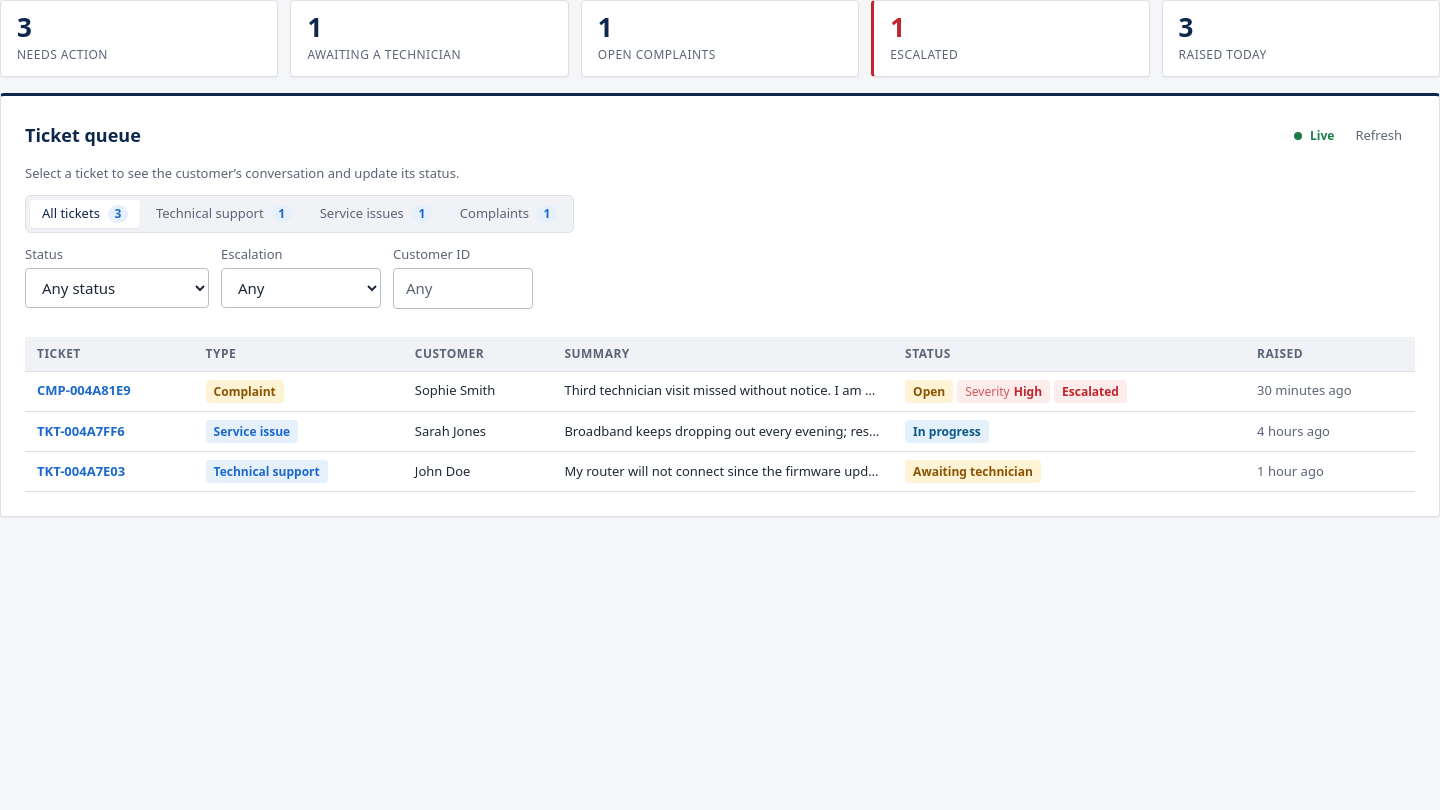
Test: TicketsPanel › applies a status change to the list as well as the detail
Expected: the row named "firmware update" is shown, x1=25 y1=452 x2=1415 y2=492
Click the button "TKT-004A7E03".
click(81, 472)  # box x1=37 y1=462 x2=125 y2=481
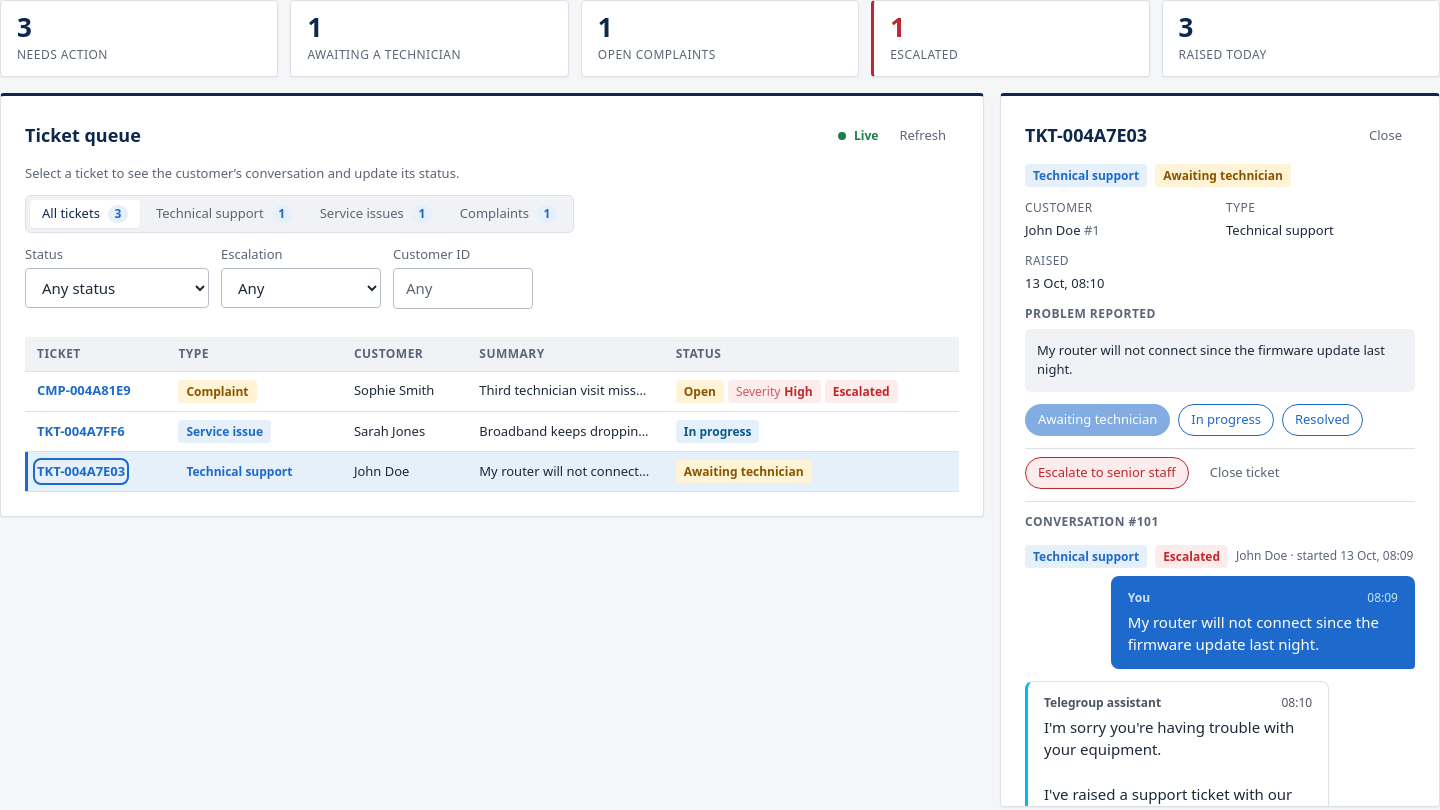
Click the button "Resolved".
click(1322, 420)  # box x1=1282 y1=404 x2=1363 y2=436
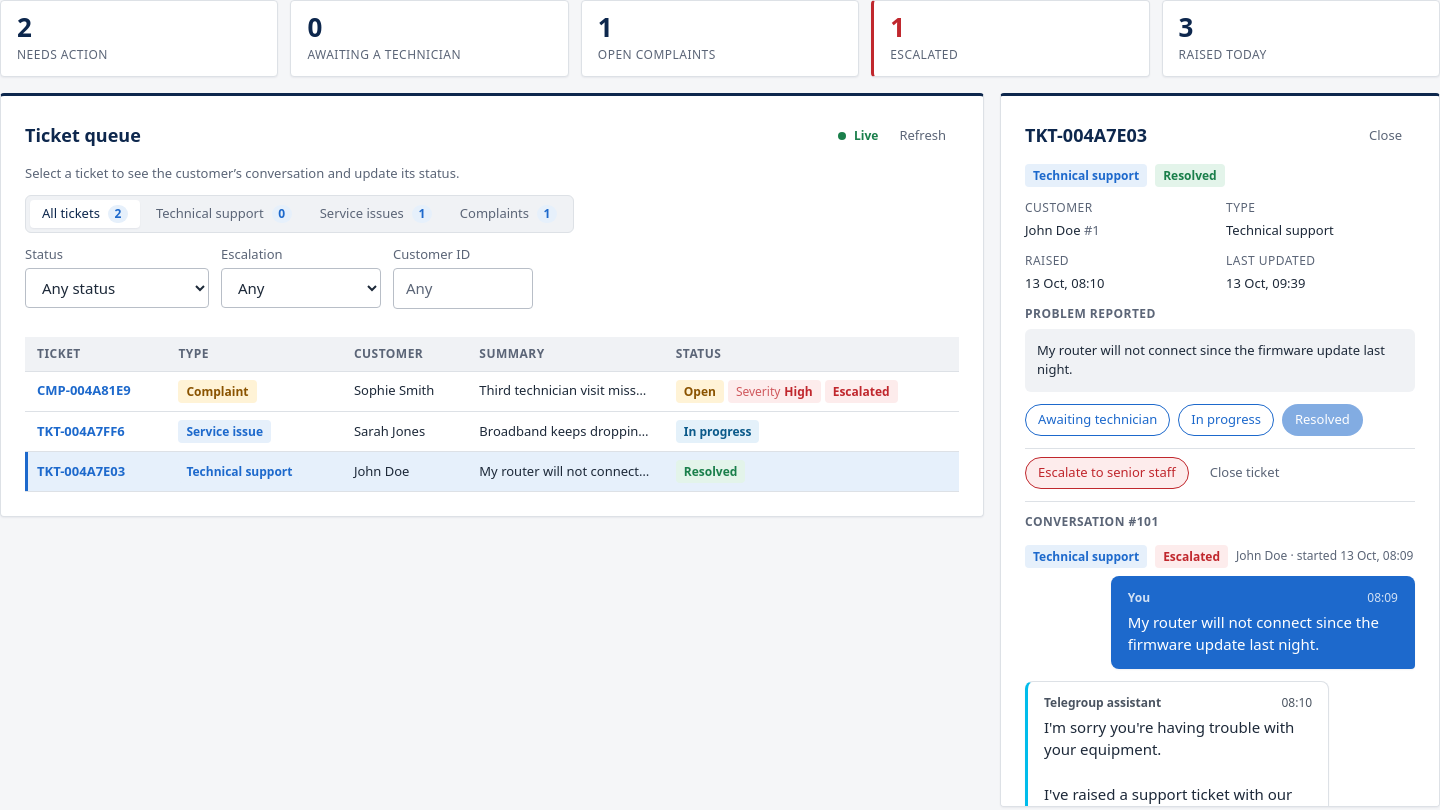
Now the text "Resolved" below "Sarah Jones" is shown, box x1=684 y1=463 x2=737 y2=480
